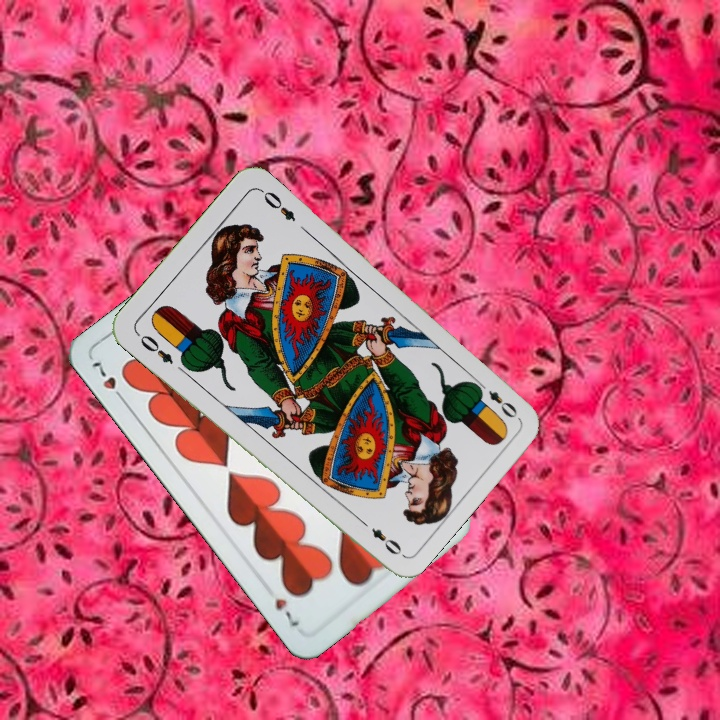EO: (472, 376, 521, 421), (136, 330, 176, 367)
H7: (88, 357, 129, 406)
